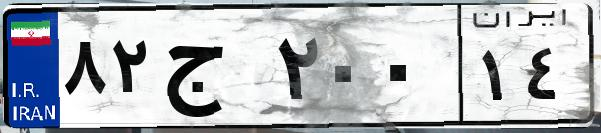0: (385, 28, 445, 110), (330, 28, 385, 110)
1: (475, 38, 525, 113)
2: (270, 28, 330, 110), (110, 28, 158, 98)
4: (525, 38, 570, 115)
8: (57, 26, 110, 100)
ج: (158, 20, 270, 120)
